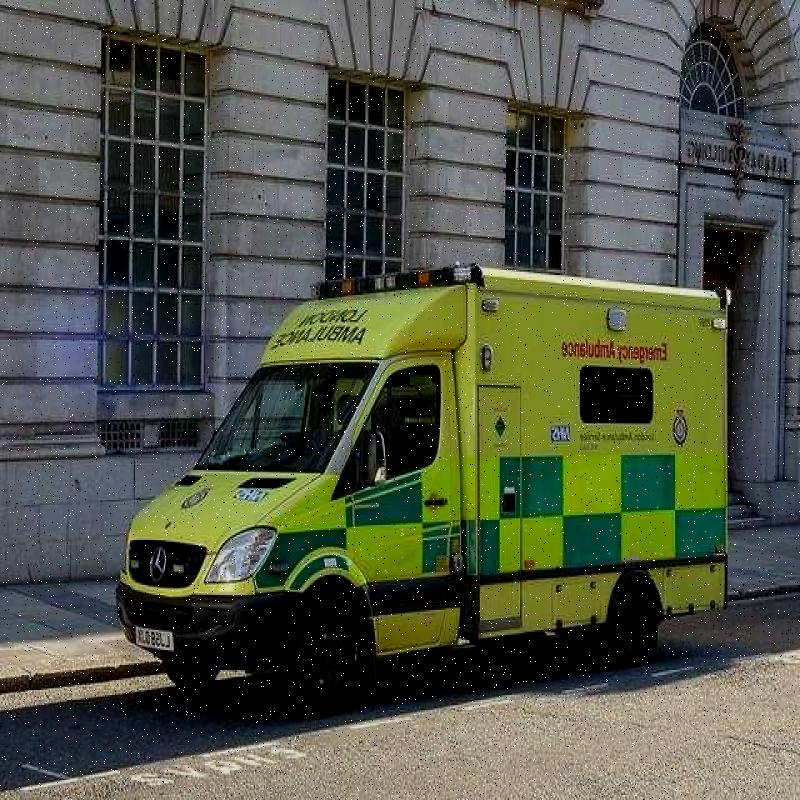AmbulanceSiren: (305, 255, 491, 320)
